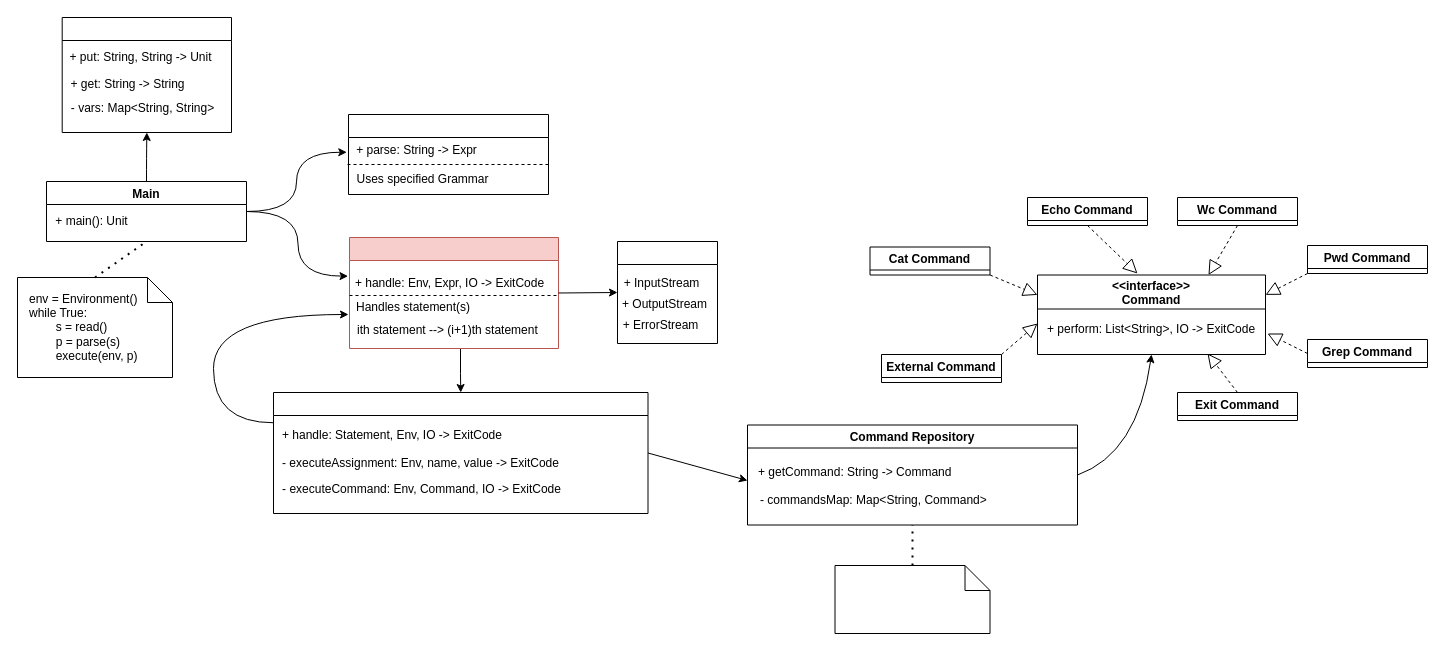
The diagram is 1445 pixels wide and 651 high, and some of its shapes have lost their labels. The shapes that lost their labels are listed below. From the top down, each one's box as (x1, y1, x2, y2) in pixels, then its label:
(61, 16, 232, 132): Environment
(348, 114, 548, 194): Parser
(348, 236, 558, 348): Expression Handler
(616, 240, 718, 344): IO
(272, 392, 648, 514): Statement Handler
(834, 564, 990, 634): Stores all commands. If can't find in map, returns ExternalCommand.
